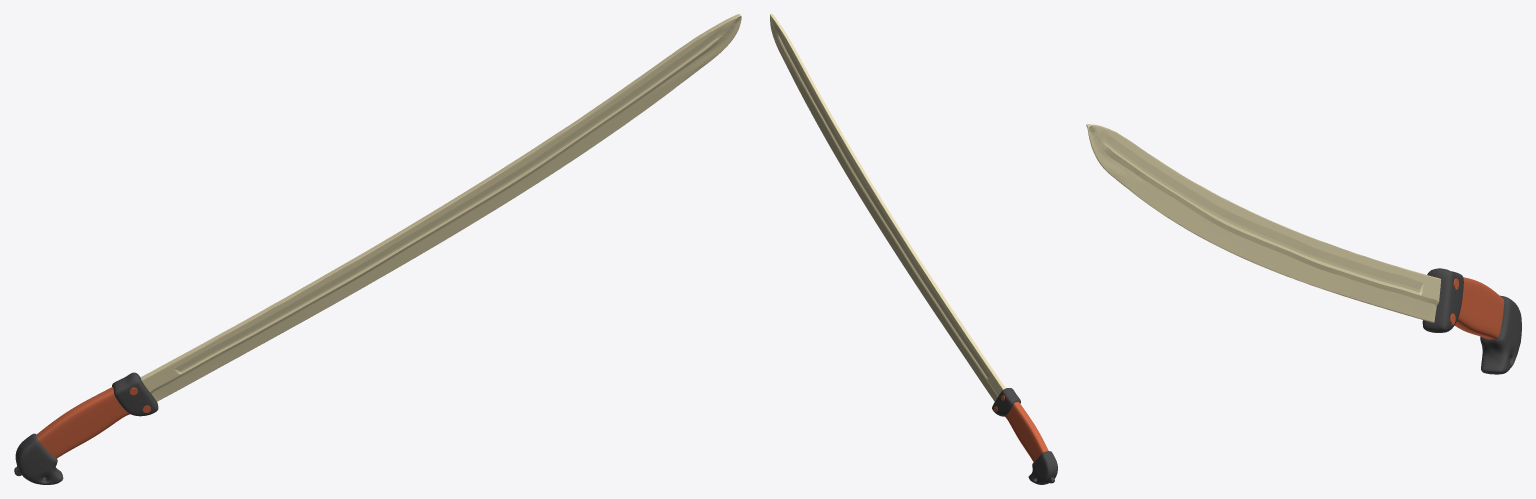
Rendered from COSSACK_WEAPON_4#8.glb.
3 renders of one model, left to right at view 1: azimuth 30°, elevation 25°; view 2: azimuth 150°, elevation 25°; view 3: azimuth 270°, elevation 25°, orthographic. The views are drawn at different scales.
Visible parts, largest first — view 1: mesh20_copy1, Shaska4, mesh21_copy1; view 2: mesh20_copy1, Shaska4, mesh21_copy1; view 3: mesh20_copy1, Shaska4, mesh21_copy1.
Part boxes in pixels (x1,y1,x2,y2): mesh20_copy1: (140,14,741,401); Shaska4: (36,372,158,458); mesh21_copy1: (14,433,63,484); mesh20_copy1: (770,14,1005,401); Shaska4: (992,388,1048,461); mesh21_copy1: (1028,451,1057,484); mesh20_copy1: (1086,124,1440,322); Shaska4: (1422,268,1504,339); mesh21_copy1: (1480,295,1521,374).
Bounding box in the file's own units: 4.78 × 3.56 × 2.31.
